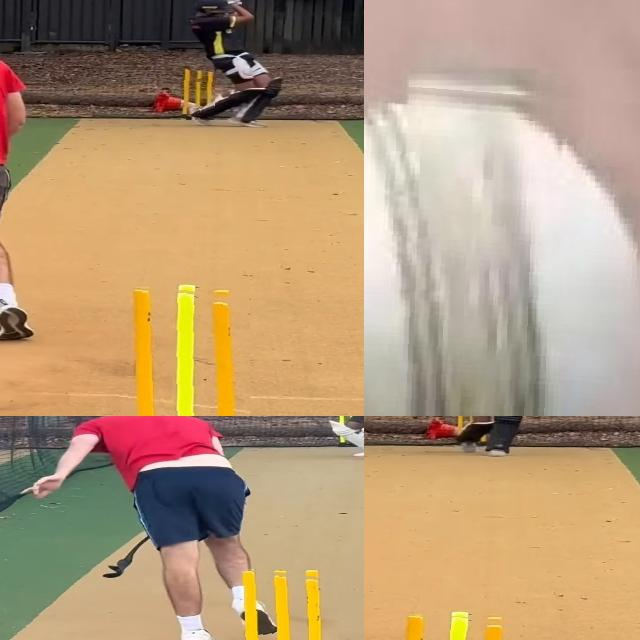Cricket ball: (364, 72, 640, 416)
Stumps: (110, 282, 250, 416), (228, 567, 338, 640), (181, 66, 216, 120)
